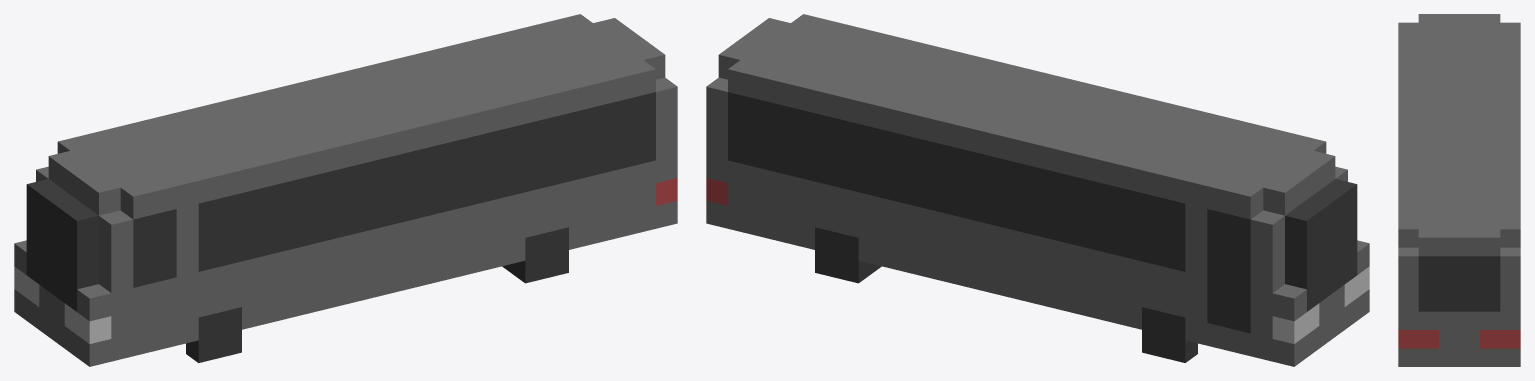
The model's file is bus-big-grey.gltf.
3 views of the same model, side by side, from view 1: azimuth 30°, elevation 25°; view 2: azimuth 150°, elevation 25°; view 3: azimuth 270°, elevation 25° (orthographic). The views are drawn at different scales.
Visible parts, largest first — view 1: model, wheels; view 2: model, wheels; view 3: model.
Boxes of the visible parts, x1,y1,x2,y2 form: model: (14,14,677,366); wheels: (186,227,568,362); model: (706,14,1369,366); wheels: (815,227,1197,362); model: (1398,14,1520,366).
Size of the model in its own units: 2.7 by 0.8 by 0.6.
2 materials, 2 textured.
